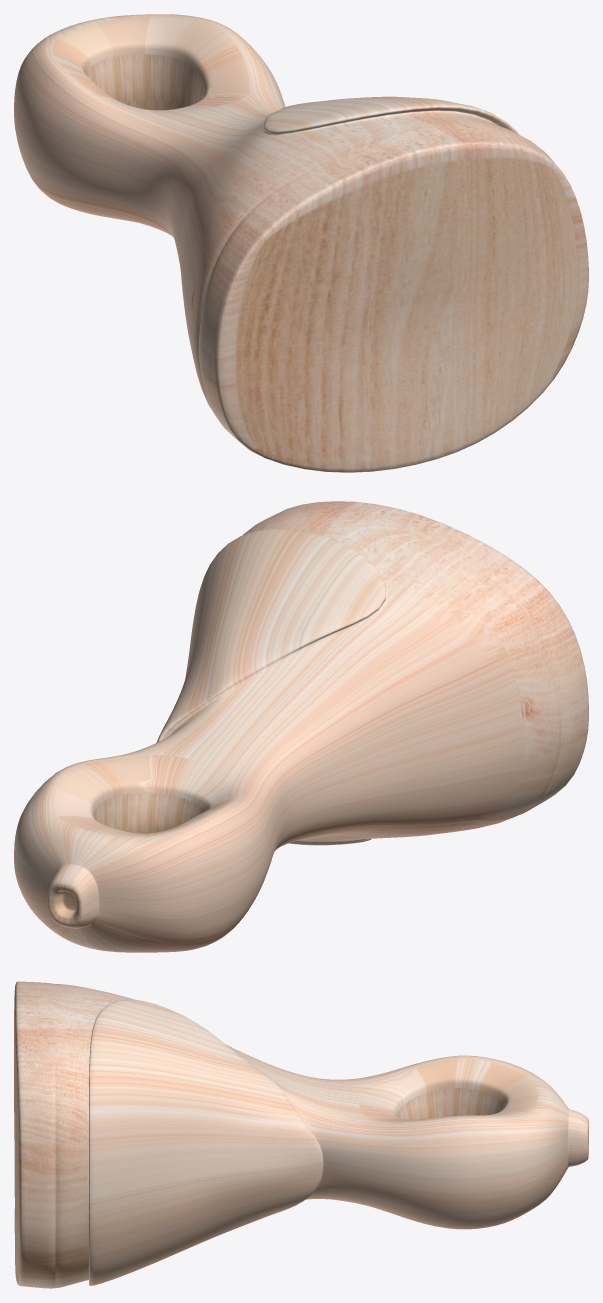
File: solider_1.fbx
3 renders of one model, top to bottom at view 1: azimuth 30°, elevation 25°; view 2: azimuth 150°, elevation 25°; view 3: azimuth 270°, elevation 25°, orthographic. The views are drawn at different scales.
Visible parts, largest first — view 1: soldier_7; view 2: soldier_7; view 3: soldier_7.
Boxes of the visible parts, x1,y1,x2,y2 form: soldier_7: (14,14,588,472); soldier_7: (14,501,588,952); soldier_7: (14,981,588,1288).
Bounding box in the file's own units: 29.32 × 47.89 × 23.48.
1 material, 1 textured.
